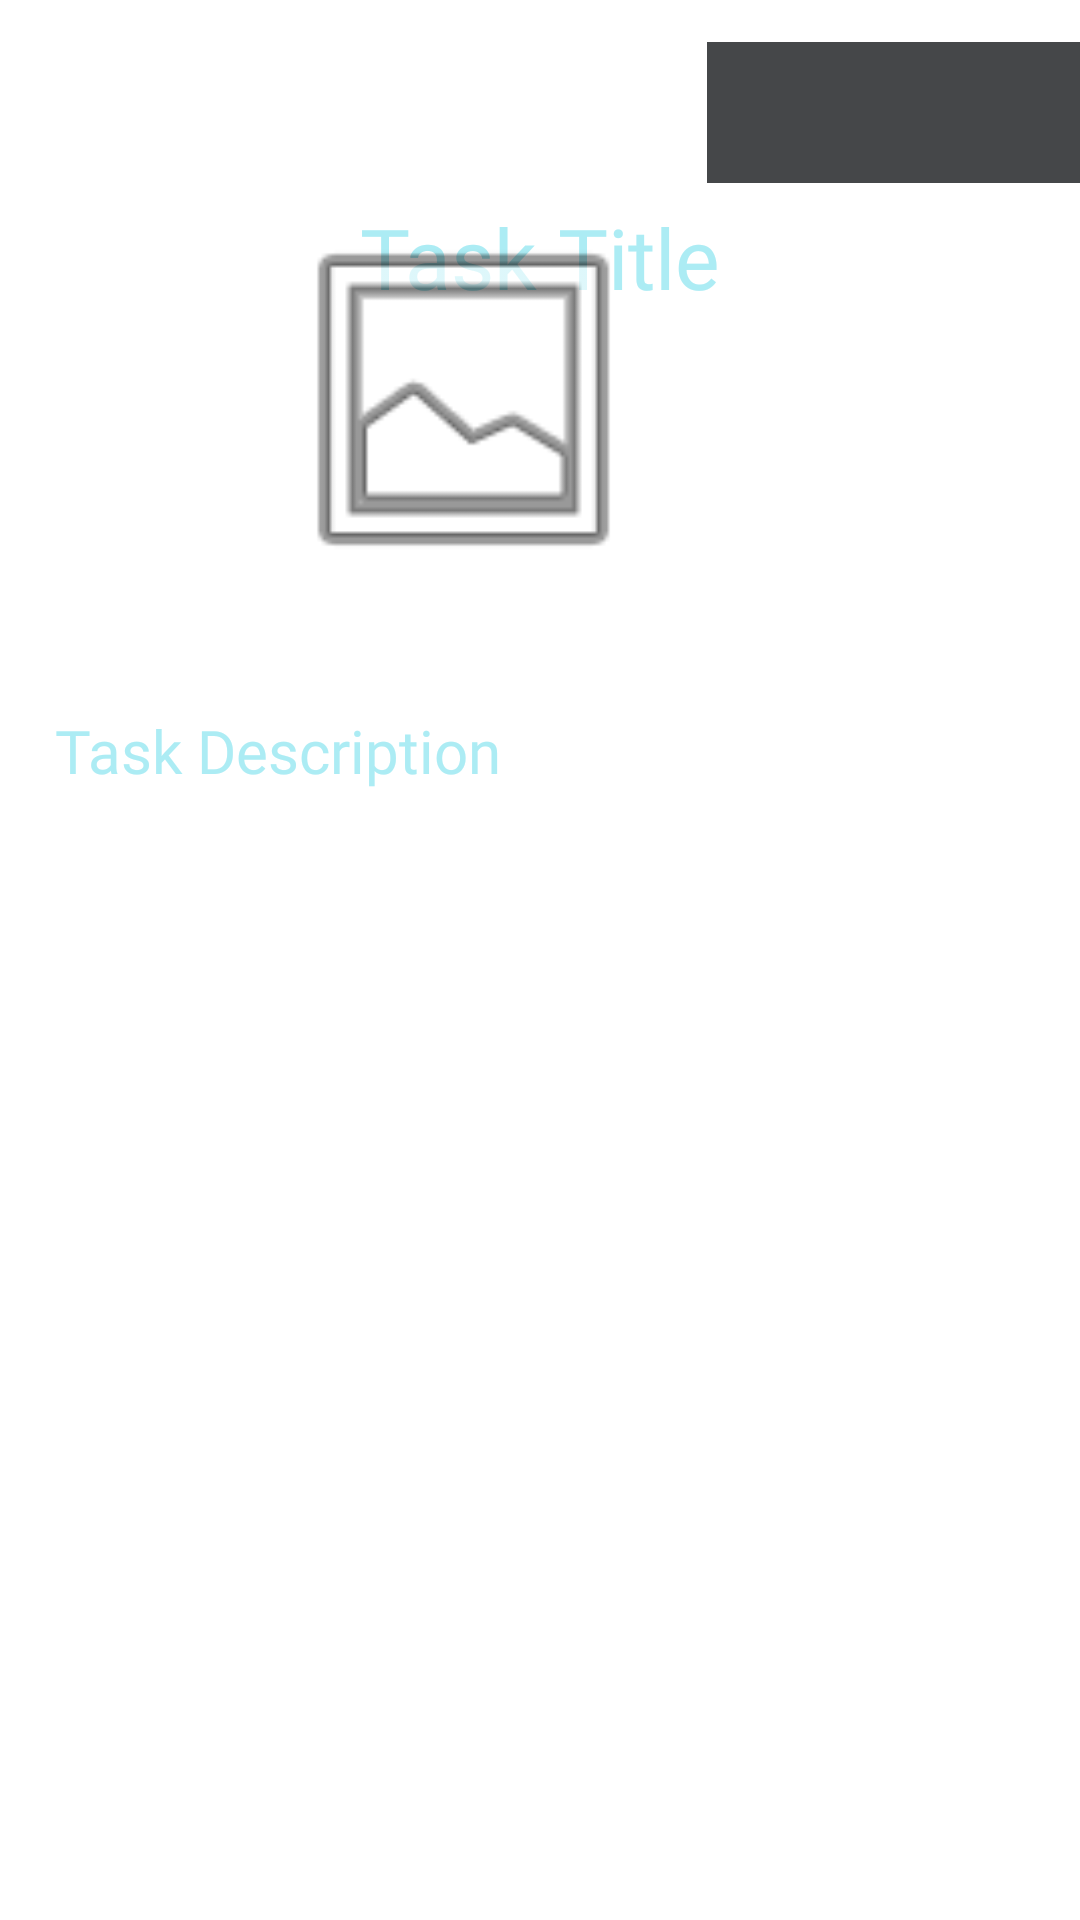

Where to tap for icons on this 1080*1920 app screen, as [x,y]:
gallery: [493,386]
